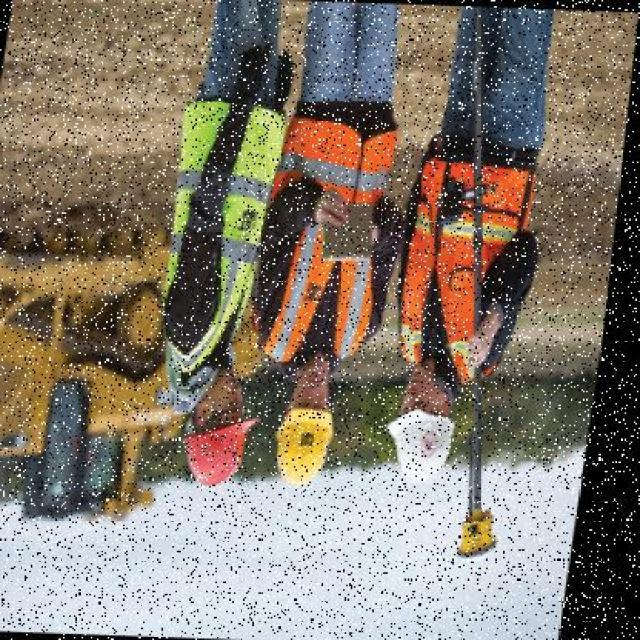helmet: (386, 388, 474, 486), (186, 405, 272, 485), (277, 402, 351, 482)
vest: (253, 91, 418, 379), (154, 72, 302, 368), (397, 151, 542, 367)
